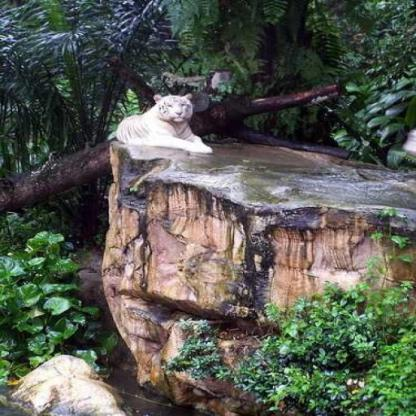Tiger: (112, 88, 216, 160)
